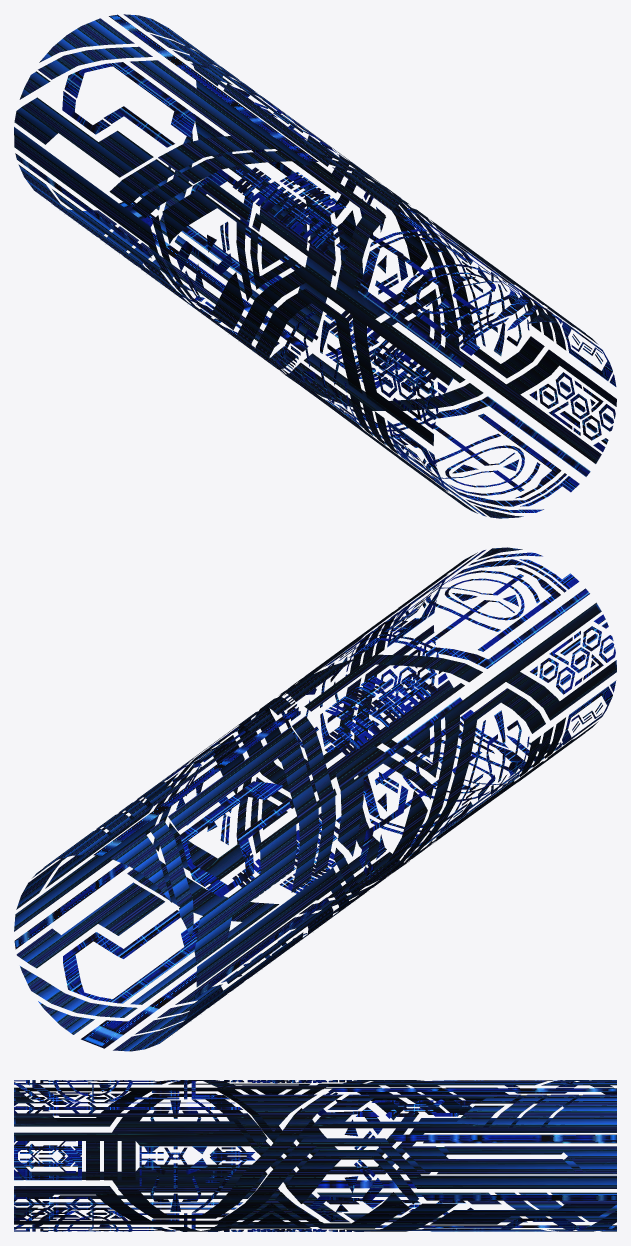
The model's file is Tunnel.fbx.
The picture shows the model from 3 angles, top to bottom: view 1: azimuth 30°, elevation 25°; view 2: azimuth 150°, elevation 25°; view 3: azimuth 270°, elevation 25°; orthographic projection. The views are drawn at different scales.
Visible parts, largest first — view 1: object_0; view 2: object_0; view 3: object_0.
Part boxes in pixels (x1,y1,x2,y2): object_0: (14, 14, 616, 518); object_0: (14, 547, 616, 1051); object_0: (14, 1080, 616, 1231).
Size of the model in its own units: 8010 by 8010 by 31781.
